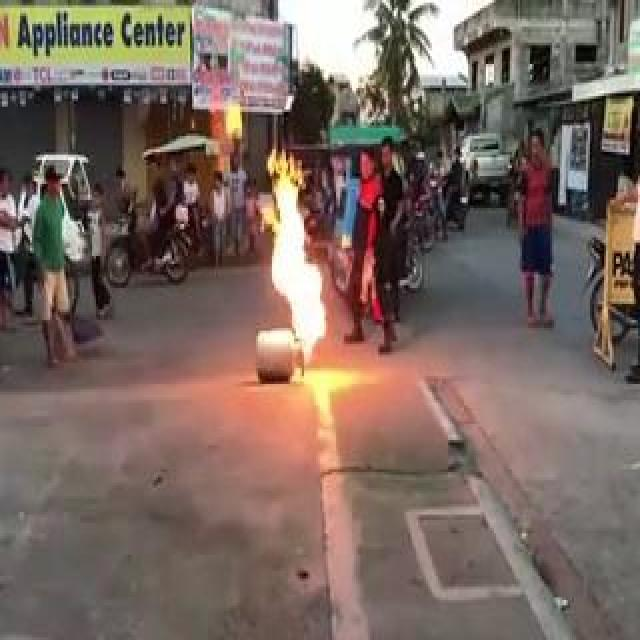Fire: (267, 167, 325, 353)
